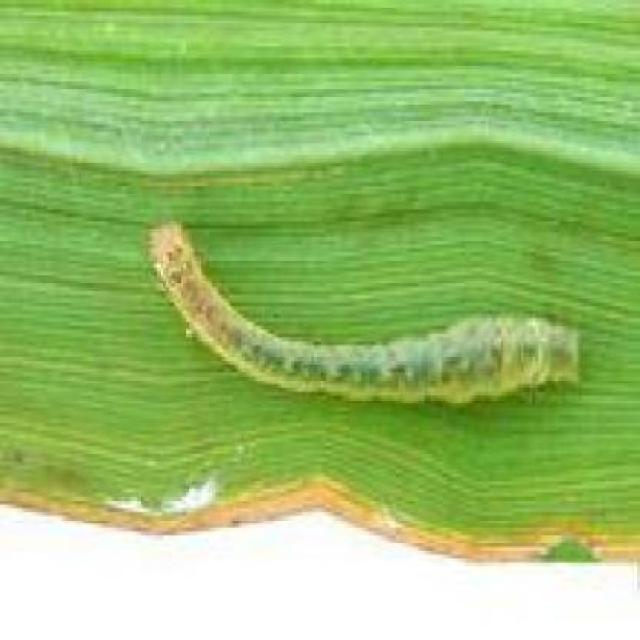leaf-folder: (143, 206, 585, 417)
